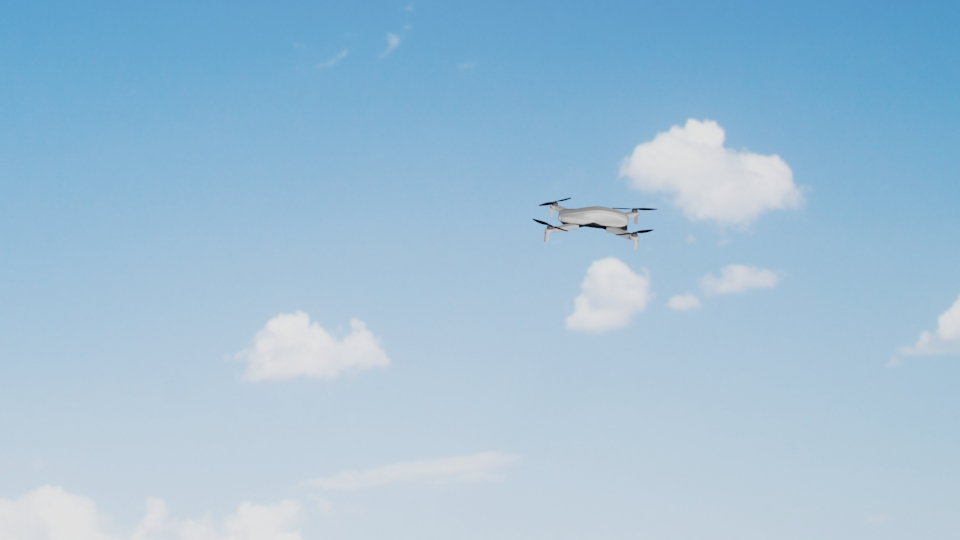drone: (534, 194, 660, 248)
